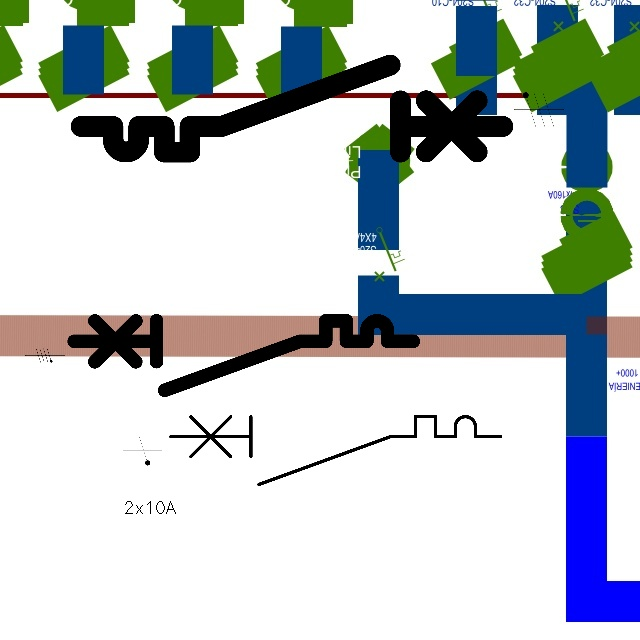interruptor_termomagnetico: (70, 54, 514, 163), (65, 312, 421, 399), (162, 408, 509, 493)
